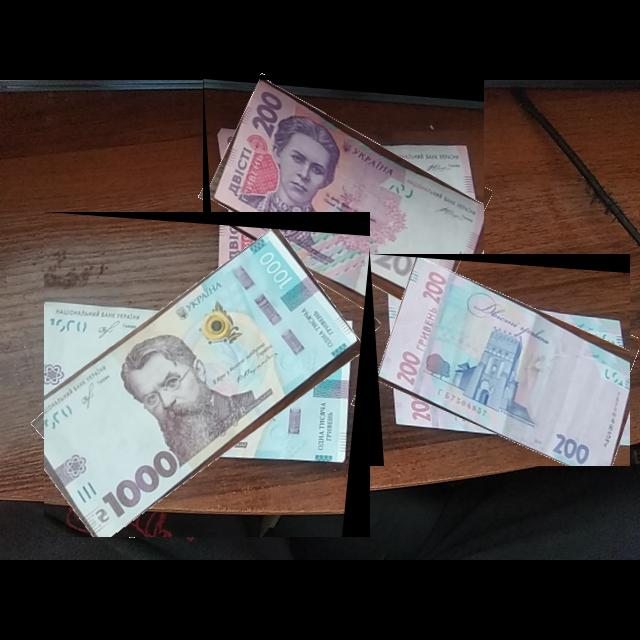1000uah: (44, 226, 364, 538)
200uah: (209, 79, 485, 303), (377, 258, 631, 467)
